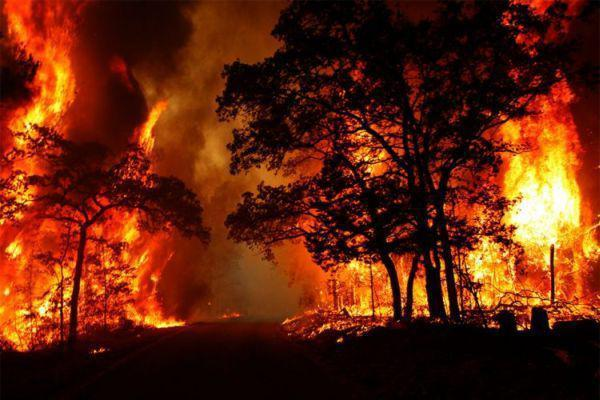fire: (2, 3, 75, 337), (504, 76, 594, 315), (298, 257, 499, 320), (95, 205, 180, 332), (131, 98, 167, 169)
